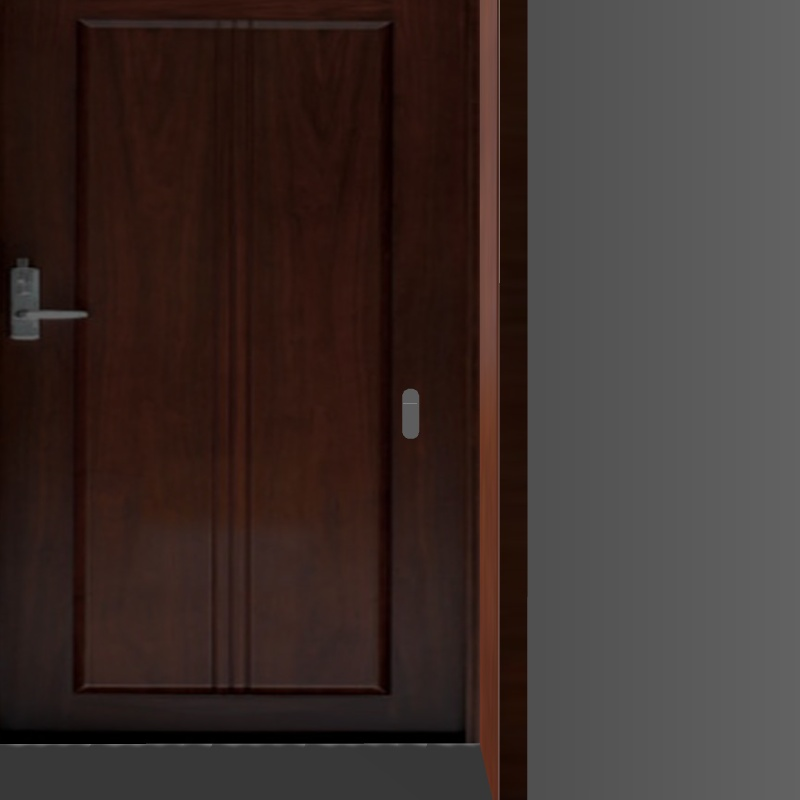handle: (3, 253, 97, 351)
